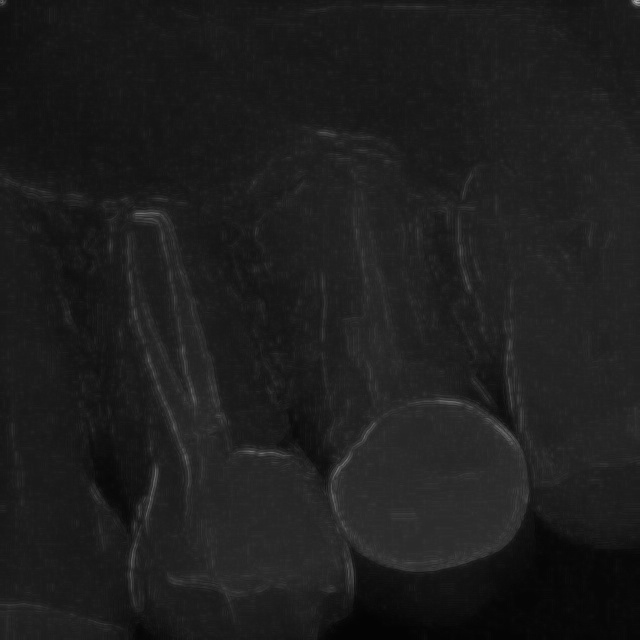Class 0- No endodontic treatment: (44, 171, 362, 640)
Class 1- complete endodontic treatment: (253, 142, 560, 578)
